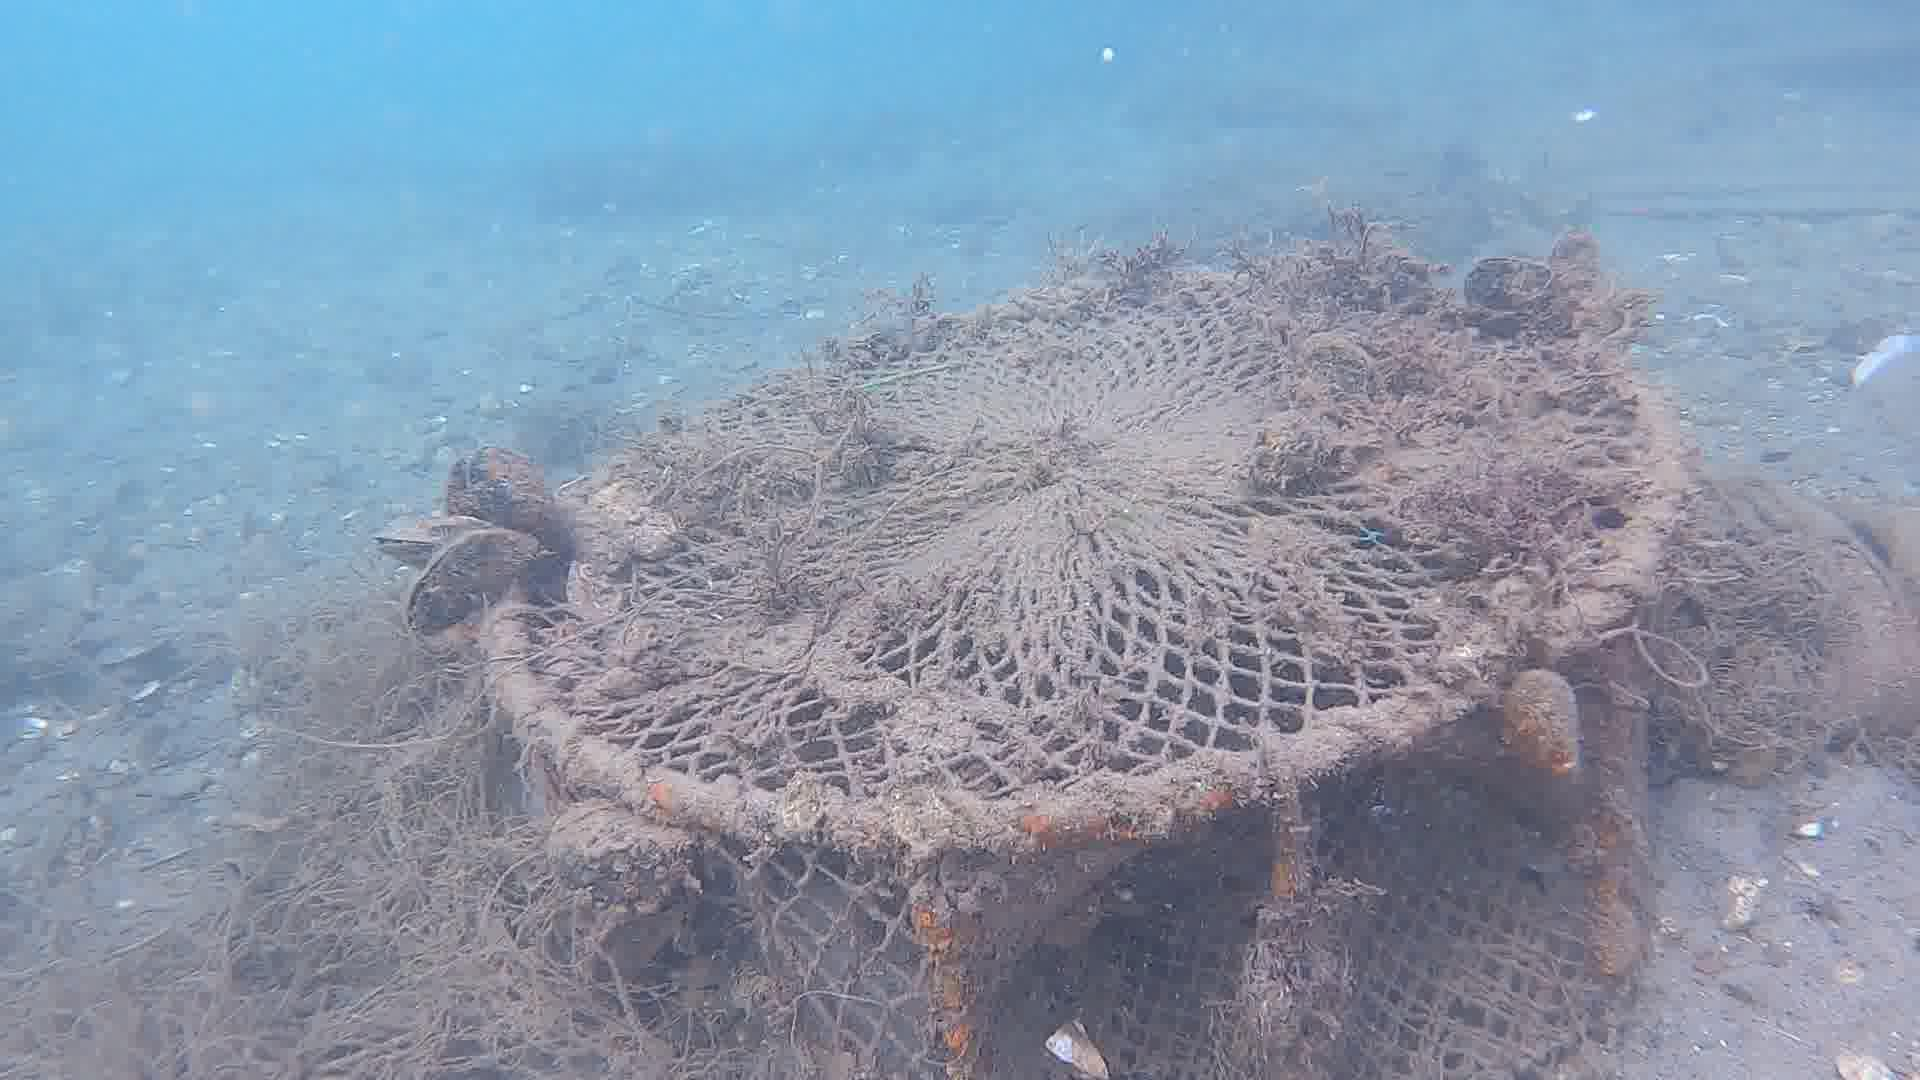circular fish trap: (475, 291, 1679, 1080)
